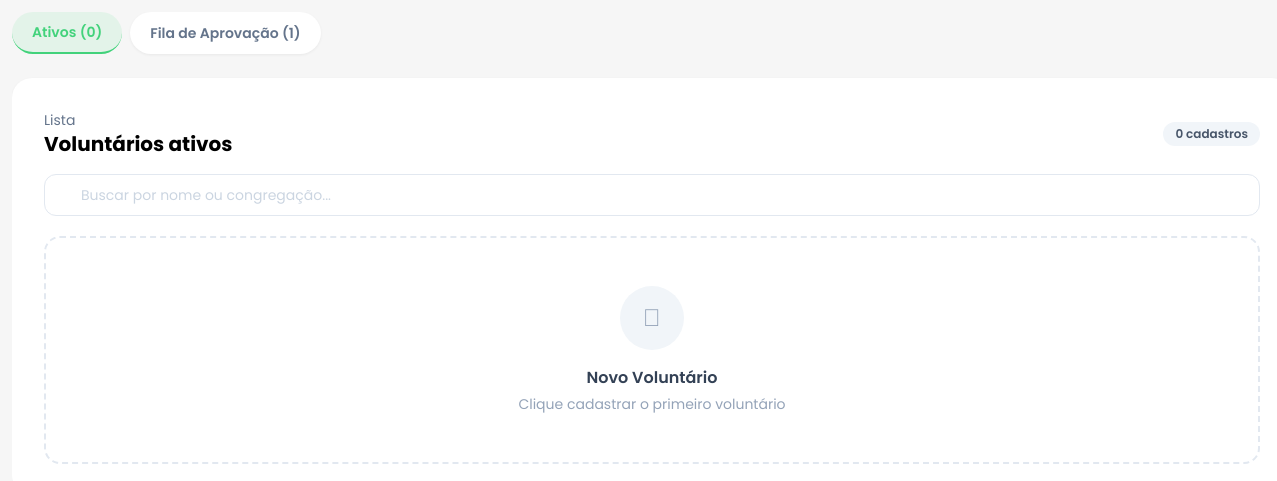
Test case: VolunteersView › shows pending volunteers with availability in the Fila tab
Click the button "Fila de Aprovação (1)" at [225, 33], box [130,12,321,54]
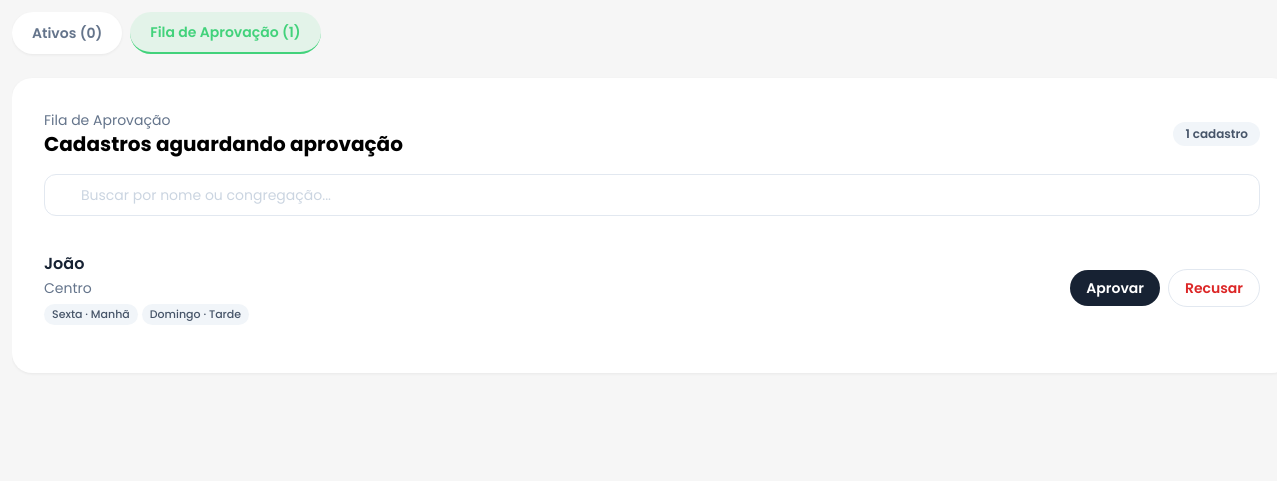
Check: the text "João" is shown, box [44,252,84,275]
Check: the text "Sexta · Manhã" is shown, box [44,304,138,324]
Check: the text "Domingo · Tarde" is shown, box [142,304,249,324]
